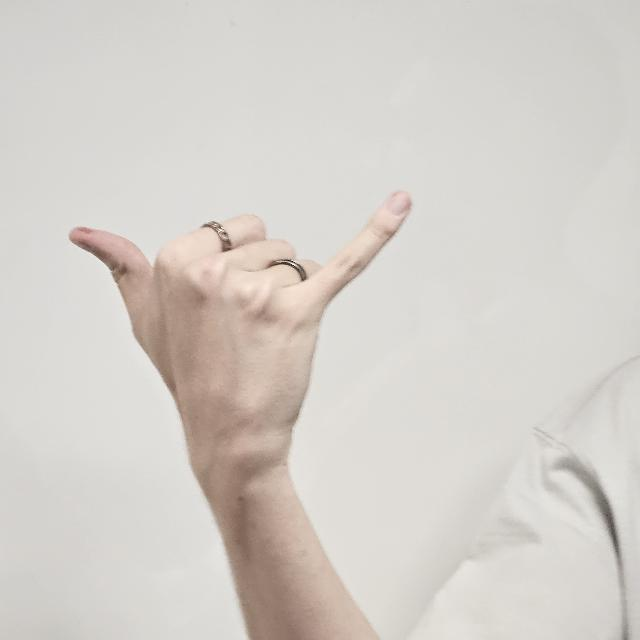Direita: (63, 186, 407, 472)
